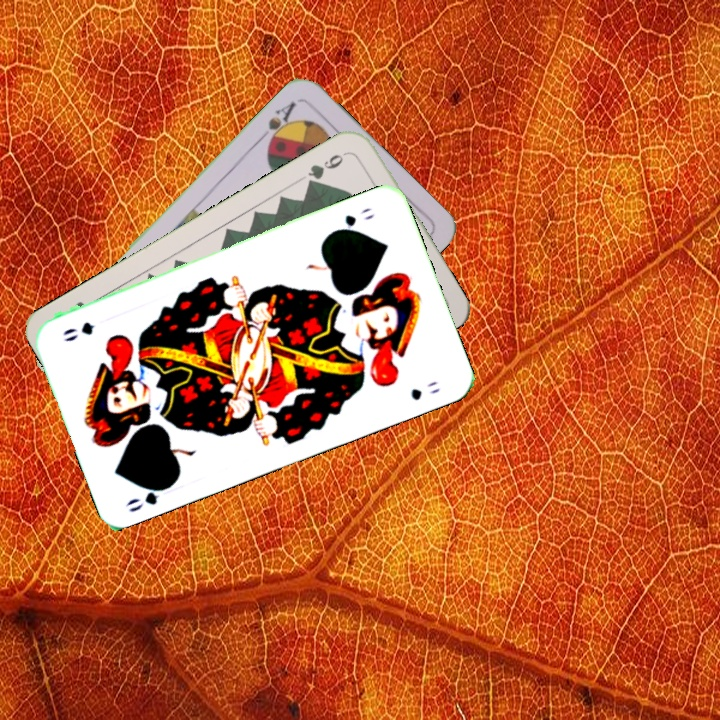G9: (302, 147, 352, 190)
GO: (122, 479, 177, 515), (328, 204, 377, 236)
SA: (255, 97, 299, 150)
